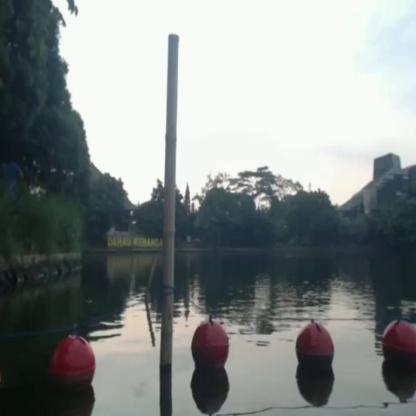red_buoy: (48, 334, 100, 399), (292, 320, 335, 378), (190, 318, 230, 373), (379, 316, 415, 371)
